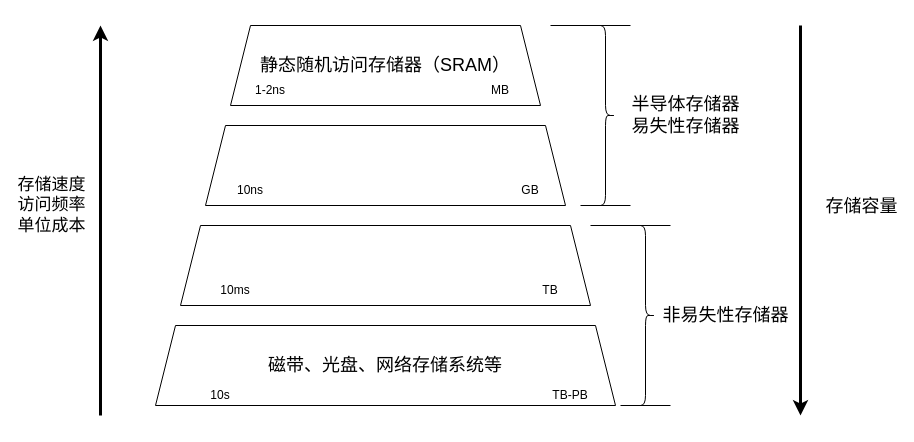
This 914x442 diagram has some shape labels left out. Each missing label, with the box of its shape:
动态随机访问存储器（SRAM）: (204, 124, 566, 206)
磁盘存储器: (180, 224, 590, 306)
